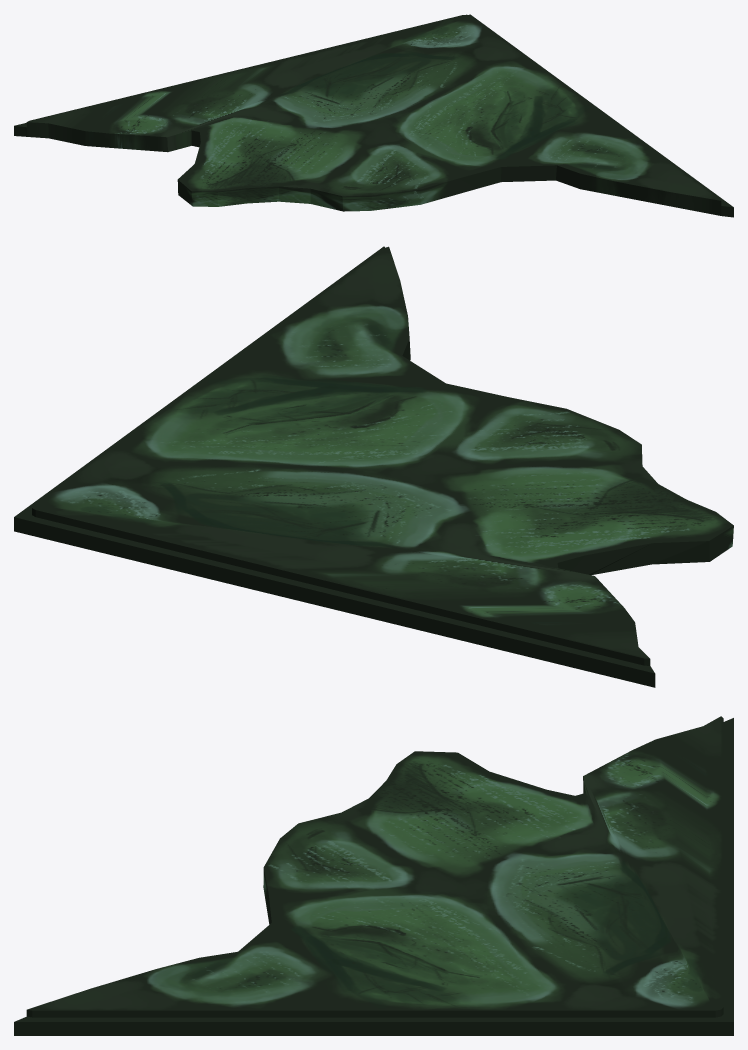
Rendered from Vloer Corner[beta].fbx.
3 renders of one model, top to bottom at view 1: azimuth 30°, elevation 25°; view 2: azimuth 150°, elevation 25°; view 3: azimuth 270°, elevation 25°, orthographic. The views are drawn at different scales.
Visible parts, largest first — view 1: Cube.003; view 2: Cube.003; view 3: Cube.003.
Part boxes in pixels (x1,y1,x2,y2): Cube.003: [14, 14, 733, 217]; Cube.003: [14, 246, 733, 687]; Cube.003: [14, 716, 733, 1035].
Bounding box in the file's own units: 200 × 6.38 × 200.
1 material, 1 textured.
